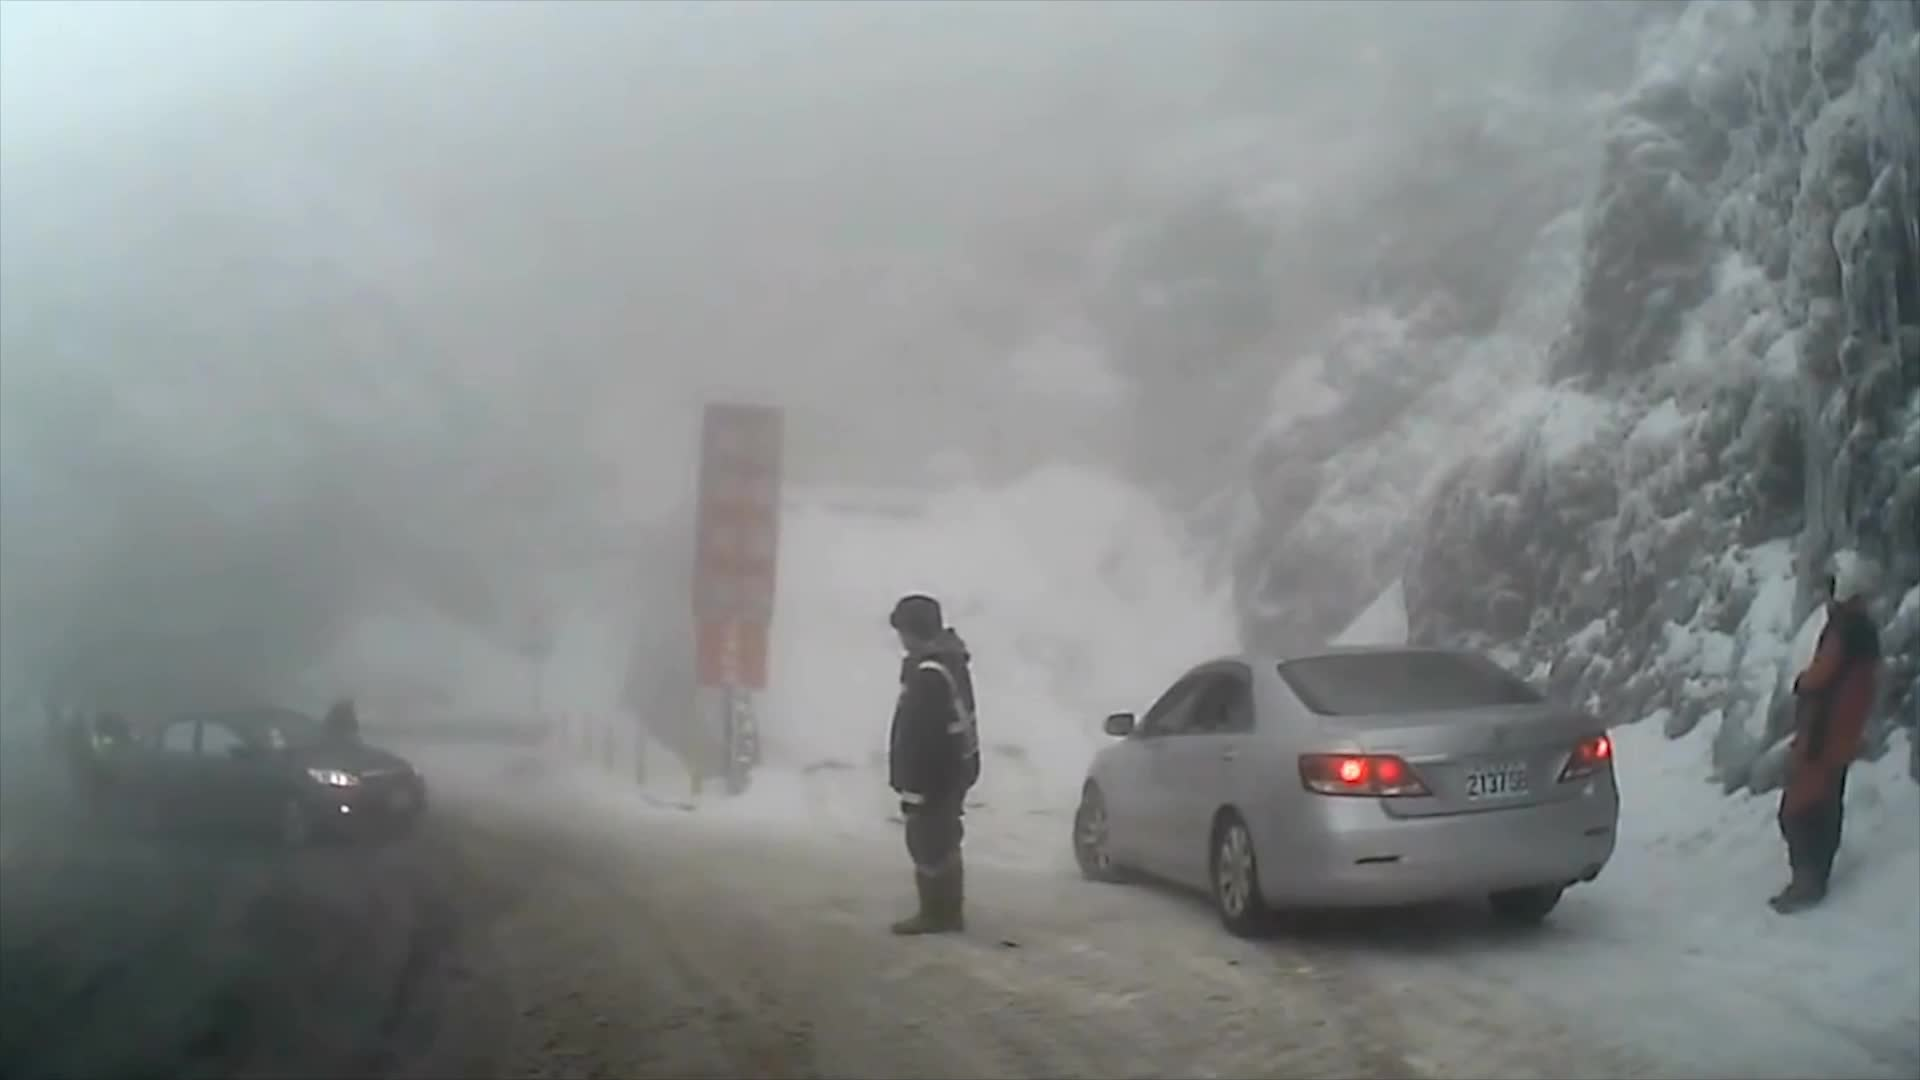pedestrian: (1769, 549, 1888, 914), (883, 595, 978, 941)
vehicle: (1069, 643, 1617, 941), (116, 705, 425, 856)
